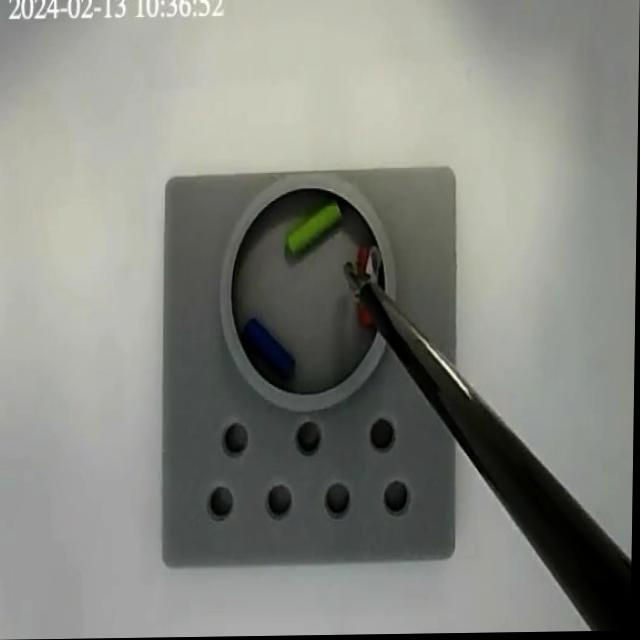EmptyHole: (367, 413, 399, 457), (383, 476, 413, 521), (221, 416, 251, 459), (266, 482, 296, 524), (208, 481, 237, 524), (324, 479, 353, 520), (296, 422, 326, 457)
